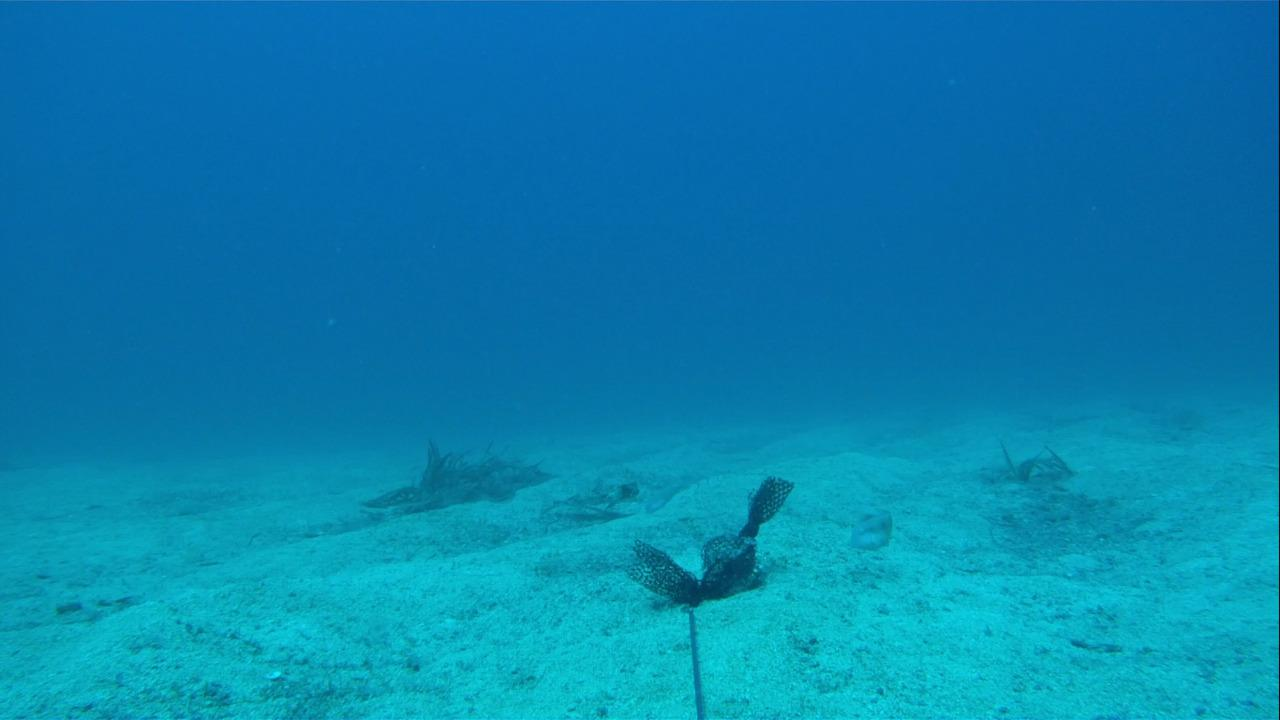dactylopterus: (528, 470, 643, 519)
raor: (835, 506, 897, 556)
